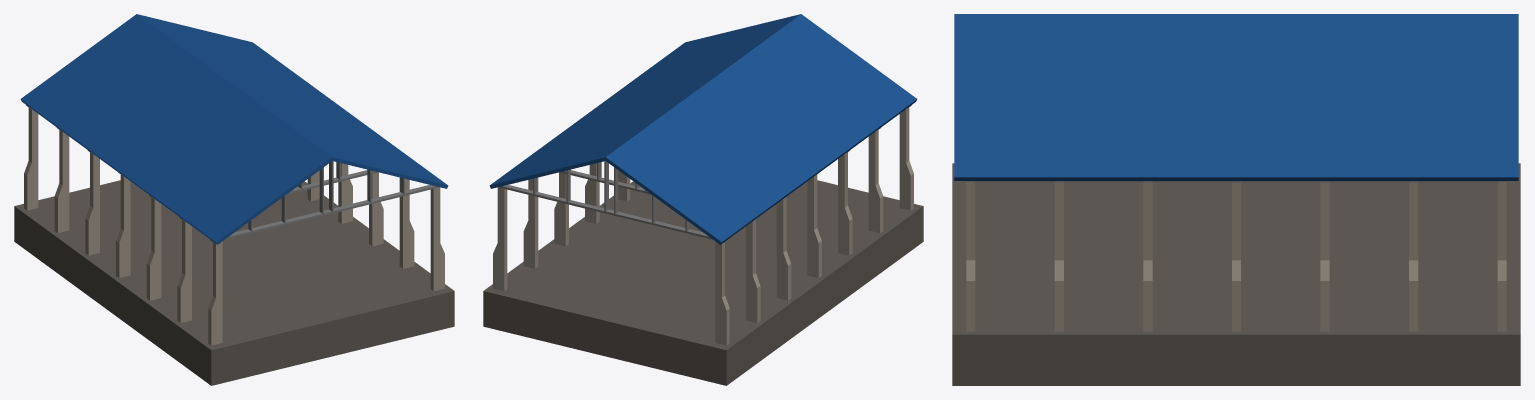
Rendered from Ангар.fbx.
3 views of the same model, side by side, from view 1: azimuth 30°, elevation 25°; view 2: azimuth 150°, elevation 25°; view 3: azimuth 270°, elevation 25° (orthographic). The views are drawn at different scales.
Visible parts, largest first — view 1: Куб.004; view 2: Куб.004; view 3: Куб.004.
Part boxes in pixels (box(x1,y1,x2,y2)): Куб.004: box(14, 14, 454, 385); Куб.004: box(483, 14, 923, 385); Куб.004: box(952, 14, 1520, 385).
Size of the model in its own units: 2282 by 1781 by 3202.
